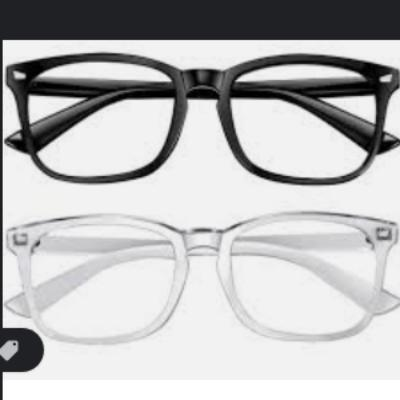glasses: (3, 207, 400, 350), (4, 50, 400, 185)
